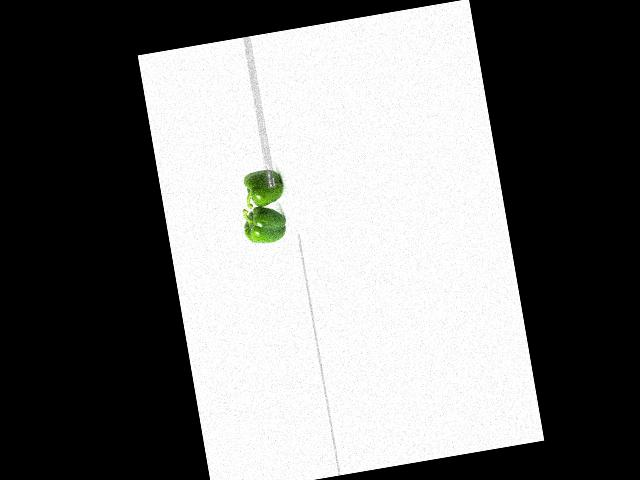bell_pepper: (238, 202, 294, 246)
